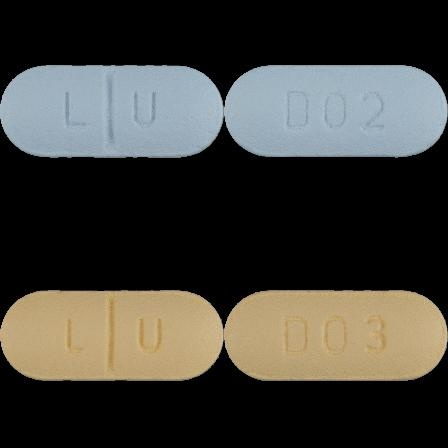0615-7990: (0, 0, 224, 224)
